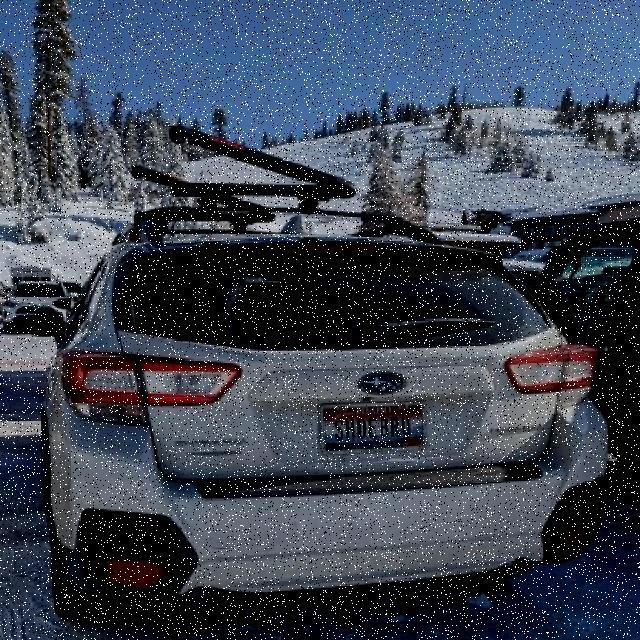LicensePlate: (315, 399, 429, 455)
